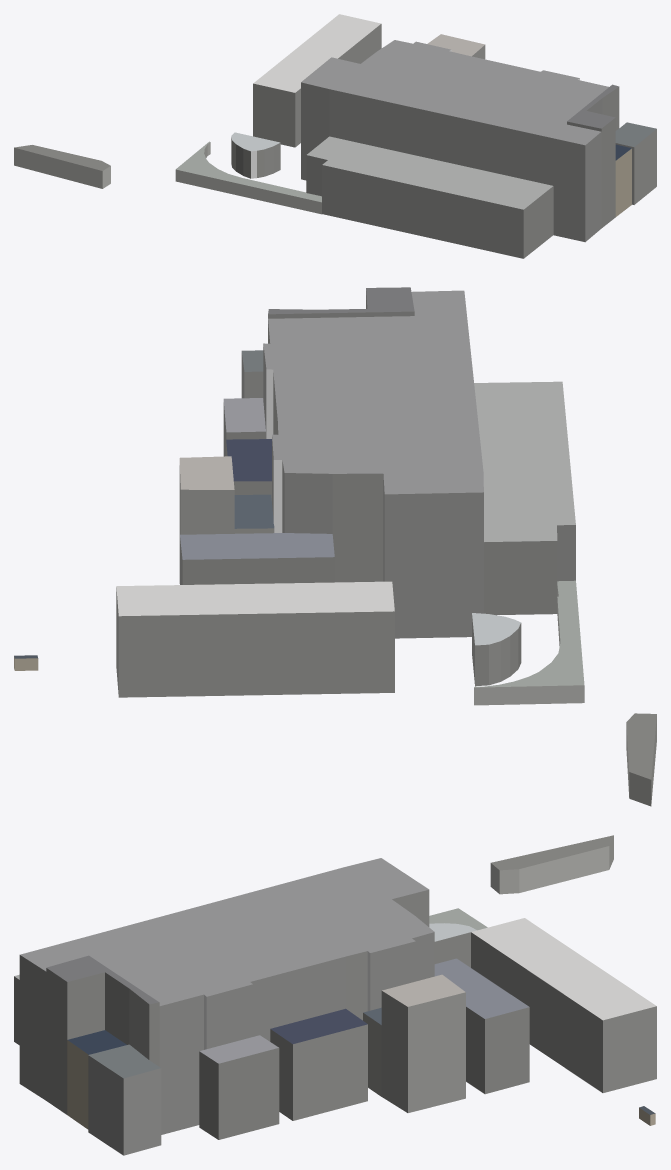
3 views of the same model, one above another, from view 1: azimuth 30°, elevation 25°; view 2: azimuth 150°, elevation 25°; view 3: azimuth 270°, elevation 25° (orthographic). The views are drawn at different scales.
Visible parts, largest first — view 1: tuile; view 2: tuile; view 3: tuile.
Boxes of the visible parts, bbox=[...] form: tuile: bbox=[14, 14, 656, 258]; tuile: bbox=[14, 287, 656, 806]; tuile: bbox=[14, 835, 656, 1155].
Bounding box in the file's own units: 197 × 41.6 × 179.
